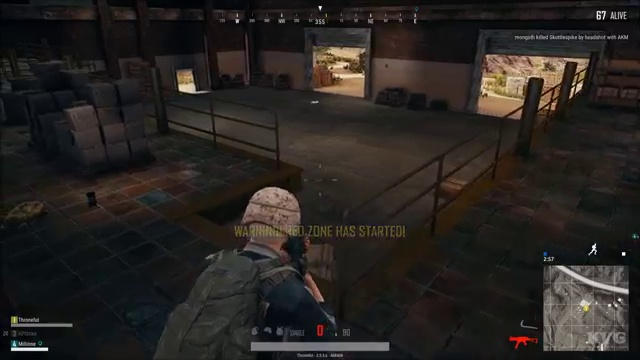Player: (169, 174, 387, 319)
